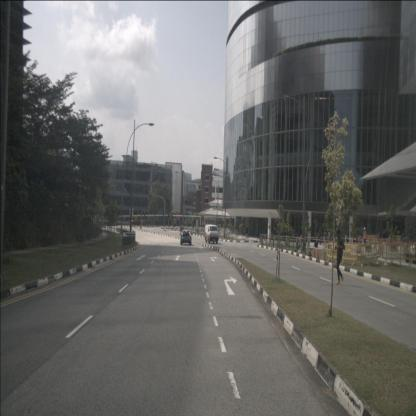human-pedestrian-adult: (335, 227, 344, 285)
movable_object-trafficcone: (322, 248, 326, 260), (312, 246, 316, 258), (308, 245, 312, 256), (376, 245, 380, 254), (316, 247, 319, 258)
vehicle-car: (205, 224, 219, 244), (180, 230, 192, 245)
